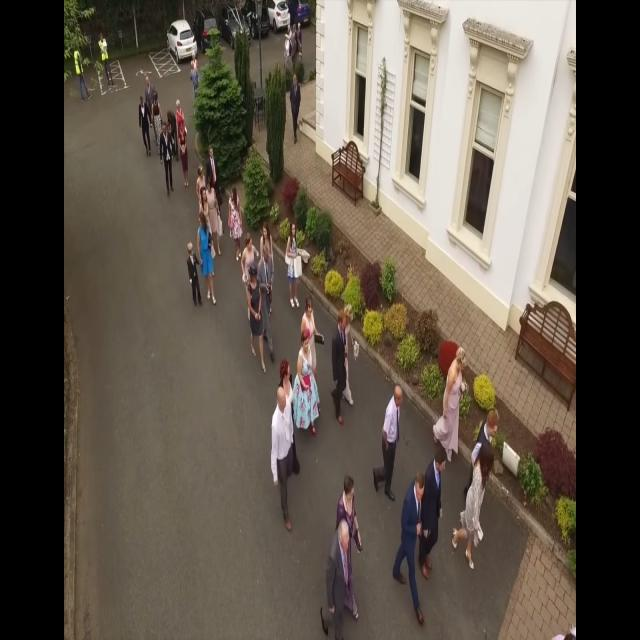humans: (392, 461, 432, 640), (449, 437, 494, 582), (268, 386, 298, 546), (432, 341, 468, 466), (321, 513, 355, 640), (424, 437, 452, 581), (374, 375, 404, 504), (244, 261, 268, 374), (298, 325, 320, 448), (330, 303, 348, 429), (284, 218, 306, 307), (198, 206, 215, 318), (338, 468, 364, 538), (184, 236, 206, 311), (157, 121, 177, 199), (98, 28, 120, 95), (227, 182, 243, 266), (289, 68, 306, 144), (135, 90, 152, 163), (476, 406, 503, 446), (178, 119, 192, 191), (276, 354, 298, 395), (260, 218, 278, 266), (206, 141, 220, 191), (242, 227, 259, 268), (298, 292, 316, 326), (189, 153, 207, 187), (151, 85, 162, 139), (195, 181, 210, 215), (174, 92, 188, 126), (142, 65, 154, 89)
